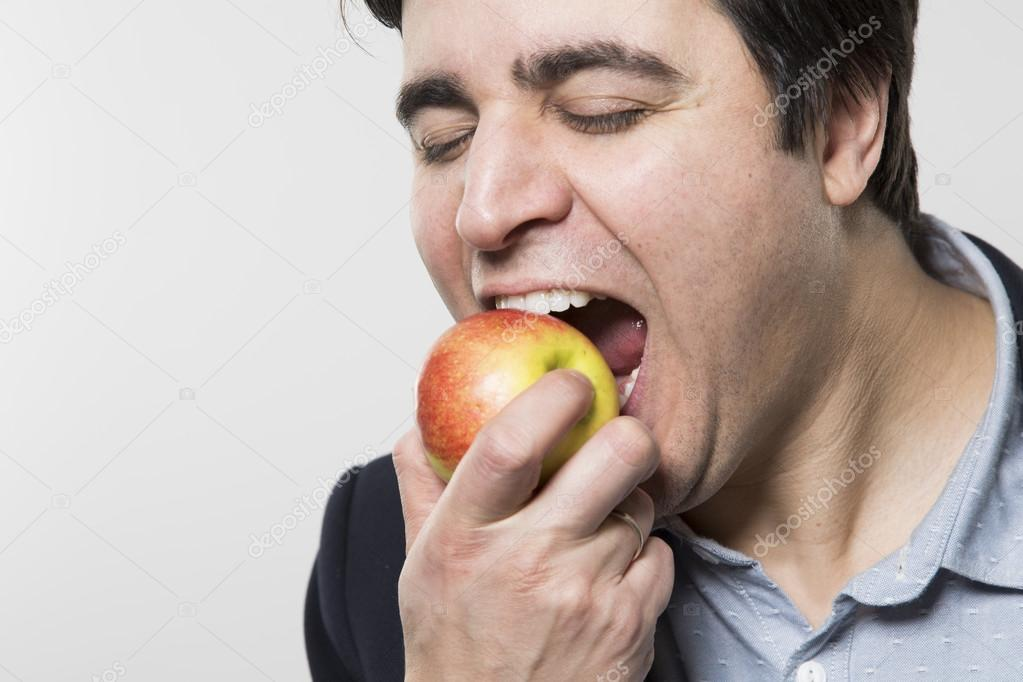eating: (247, 2, 989, 616)
